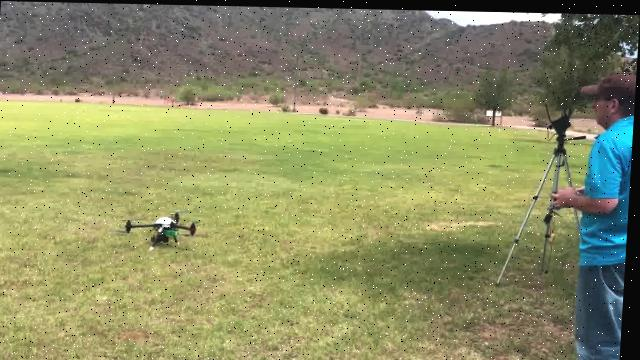drone: (0, 125, 634, 360)
